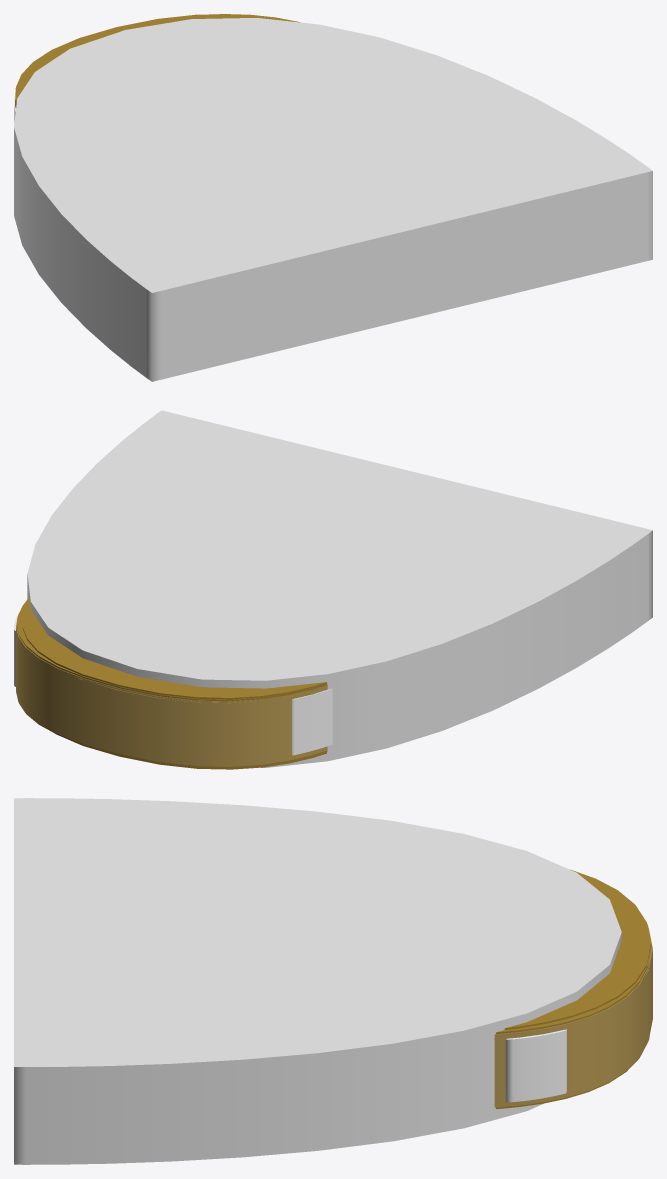
The model's file is emoji_u1f470_1f3fc_200d_2640.glb.
The picture shows the model from 3 angles, top to bottom: view 1: azimuth 30°, elevation 25°; view 2: azimuth 150°, elevation 25°; view 3: azimuth 270°, elevation 25°; orthographic projection. The views are drawn at different scales.
Parts seen in each view (by area): view 1: emoji_u1f470_1f3fc_200d_2640; view 2: emoji_u1f470_1f3fc_200d_2640; view 3: emoji_u1f470_1f3fc_200d_2640.
Boxes of the visible parts, bbox=[...] form: emoji_u1f470_1f3fc_200d_2640: bbox=[14, 14, 652, 381]; emoji_u1f470_1f3fc_200d_2640: bbox=[14, 410, 652, 769]; emoji_u1f470_1f3fc_200d_2640: bbox=[14, 798, 652, 1164].
Size of the model in its own units: 0.0331 by 0.0056 by 0.0332.
